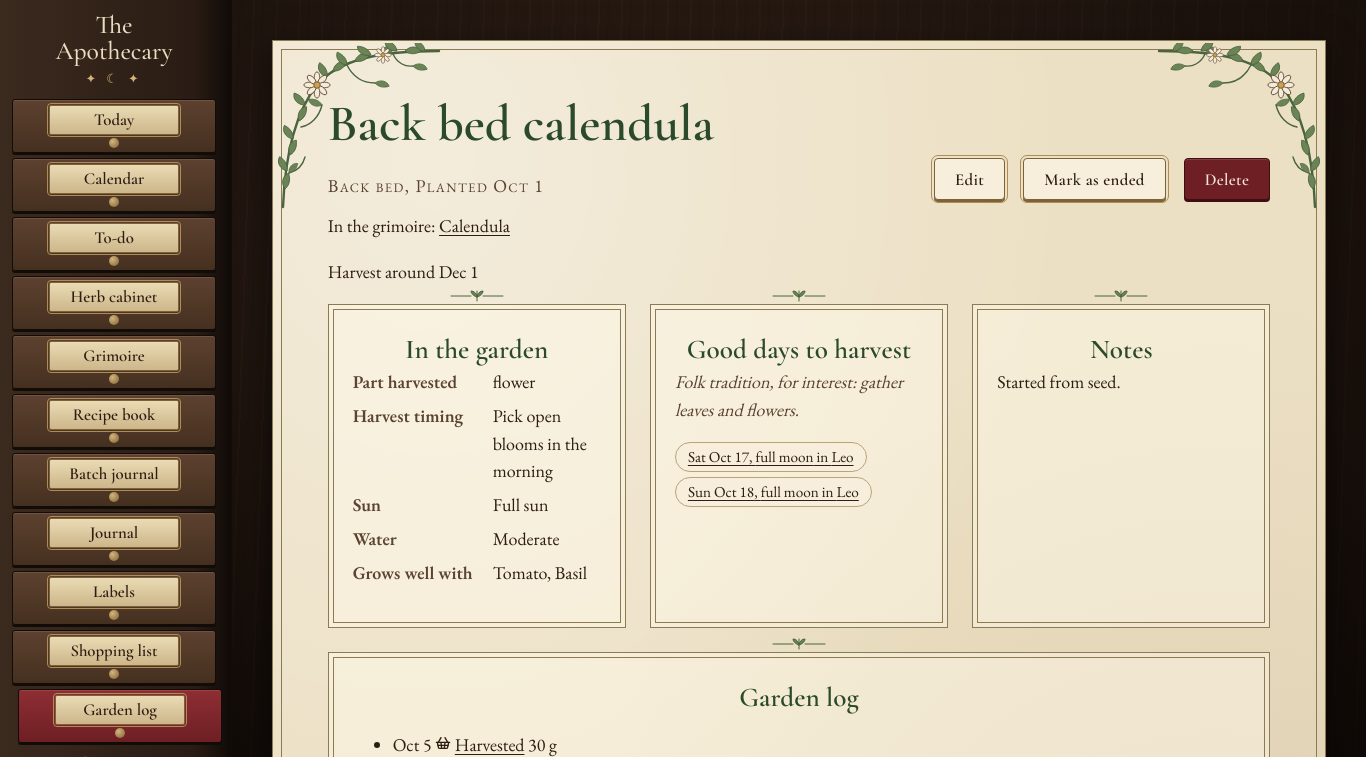
Test: marks the plant as ended on the chosen day
The image size is (1366, 757).
Click the button "Mark as ended": (1095, 179) [1023,158,1166,200]
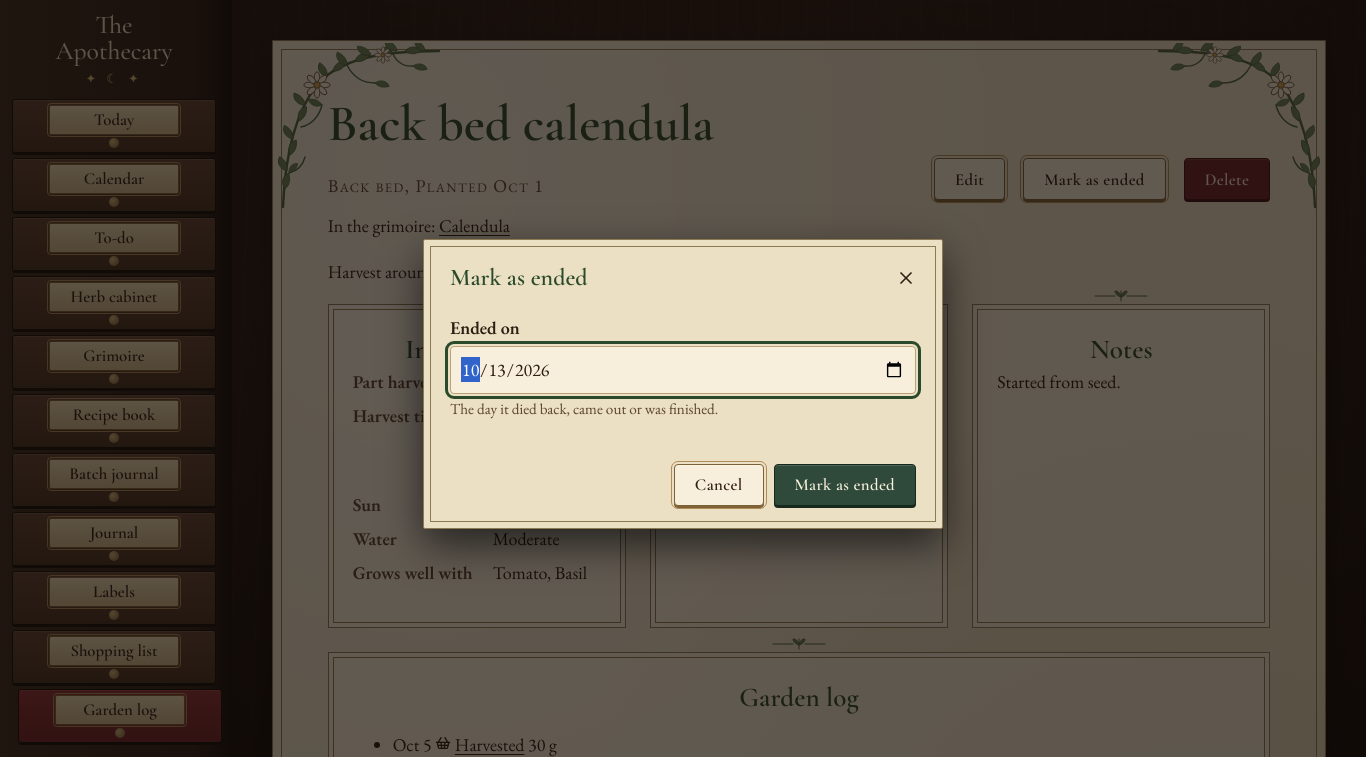
Check: the date field labelled "Ended on" holds "2026-10-13"
In the date field labelled "Ended on": (683, 370) [450,346,916,394], type "2026-11-02"
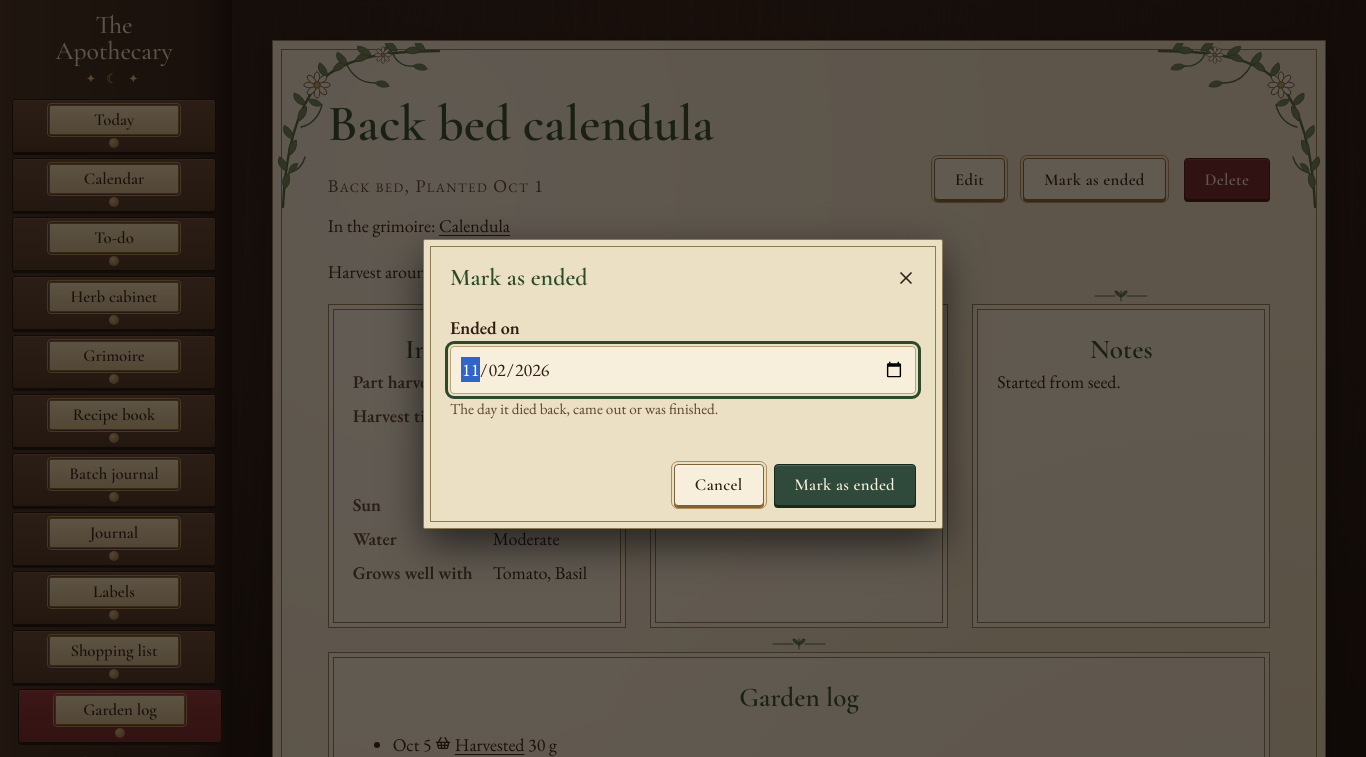
Click the button "Mark as ended": (845, 485) [774,464,916,506]
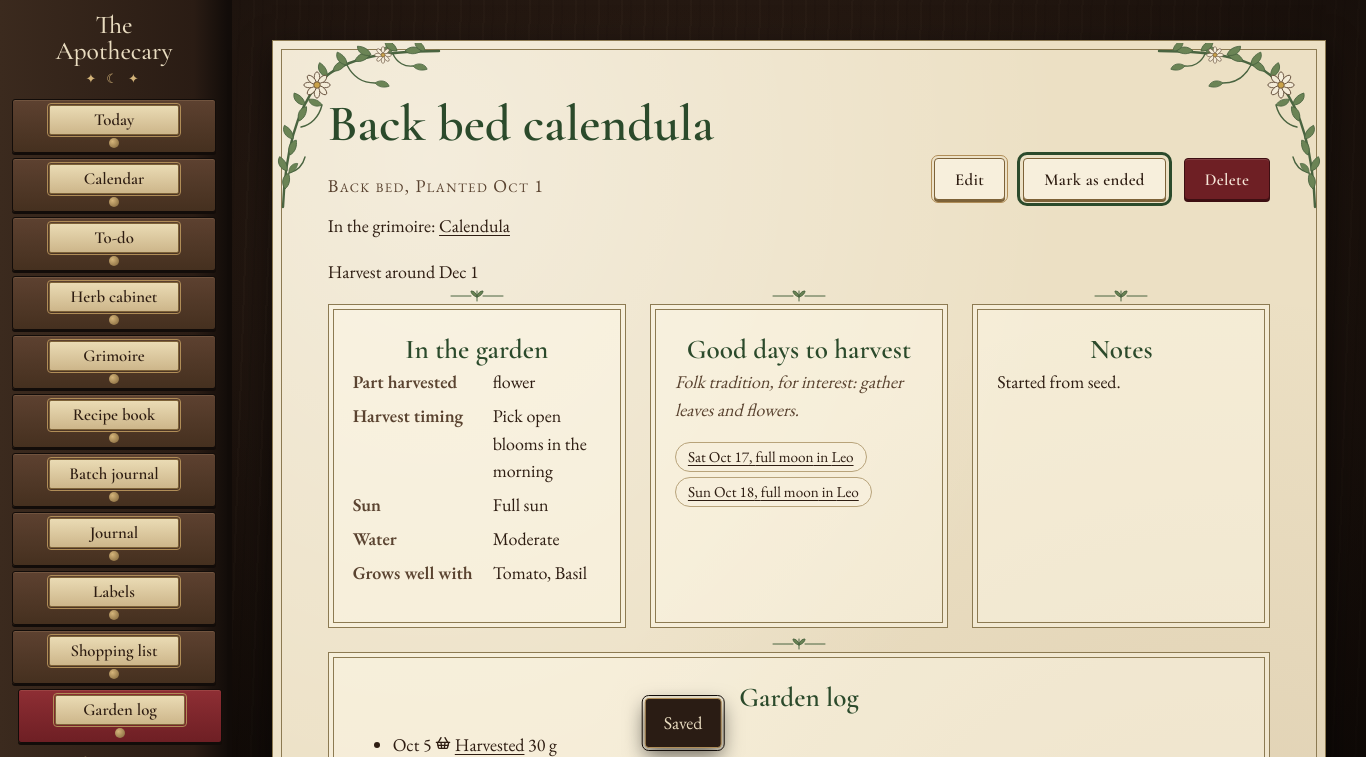
Check: the text "Saved" is shown, box [664,709,702,737]
